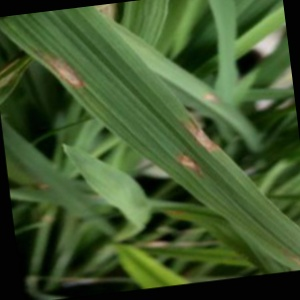Brown_Spot: (25, 36, 100, 102), (179, 100, 236, 157), (162, 147, 216, 186)
